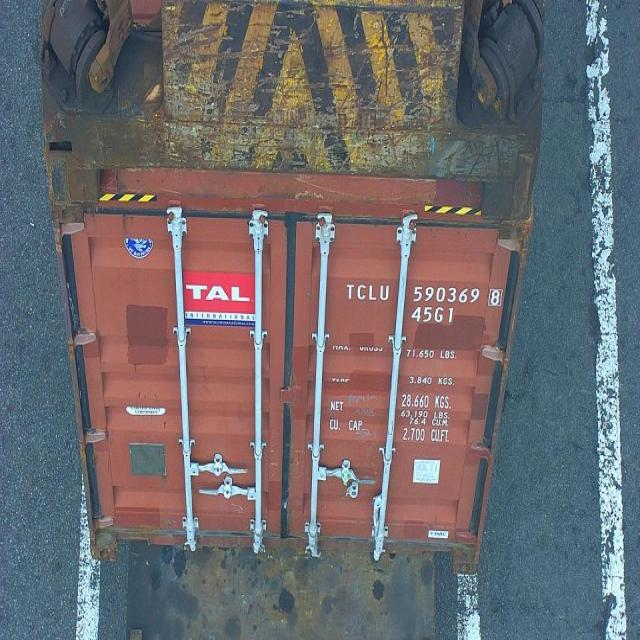ISO: (412, 304, 453, 324)
container_number: (342, 276, 503, 308)
